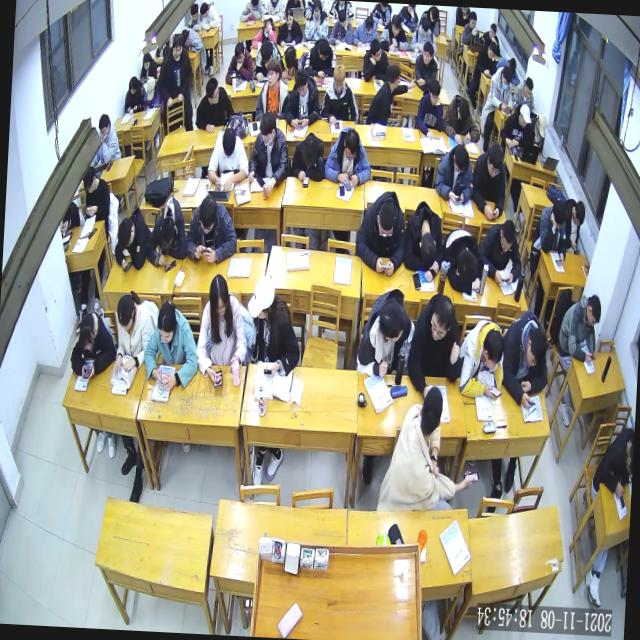bow: (500, 310, 551, 408), (456, 316, 506, 397), (185, 194, 239, 264), (402, 200, 444, 282), (69, 309, 117, 378), (146, 196, 188, 266), (440, 226, 483, 292), (114, 208, 152, 274), (442, 92, 482, 145), (288, 129, 326, 181), (380, 12, 410, 50), (251, 16, 278, 50), (279, 45, 304, 81), (353, 13, 379, 46), (180, 26, 206, 52)
down: (526, 327, 548, 369), (208, 272, 228, 316), (156, 300, 176, 344), (198, 194, 218, 234), (115, 294, 134, 332), (376, 201, 396, 237), (258, 112, 278, 145), (78, 314, 95, 350), (486, 142, 503, 178), (117, 216, 136, 246), (159, 212, 176, 245), (344, 125, 361, 158), (586, 294, 602, 328), (499, 220, 515, 252), (550, 200, 566, 230), (302, 132, 318, 161), (456, 95, 471, 124), (452, 144, 467, 172), (222, 128, 236, 158), (294, 68, 308, 97), (260, 38, 274, 66), (82, 164, 96, 192), (332, 62, 345, 92), (574, 198, 586, 228), (428, 77, 440, 106), (316, 38, 330, 62), (519, 104, 532, 129), (98, 114, 111, 139), (536, 113, 548, 139), (500, 65, 512, 89), (145, 76, 156, 102), (284, 46, 296, 69), (173, 31, 183, 57), (233, 42, 244, 64), (391, 12, 402, 34), (523, 75, 534, 97), (420, 15, 430, 36), (264, 17, 274, 37), (284, 8, 294, 28), (311, 0, 321, 20), (364, 14, 374, 34), (128, 74, 138, 94), (142, 51, 152, 71), (338, 9, 347, 28), (487, 41, 496, 60), (190, 4, 199, 22), (199, 2, 209, 18), (469, 10, 476, 28), (181, 28, 188, 44)
lookup: (266, 58, 282, 88)
sit: (378, 384, 482, 516), (244, 277, 304, 379), (196, 272, 250, 382), (406, 293, 462, 398), (356, 289, 416, 380), (143, 300, 200, 392), (356, 186, 408, 274), (155, 33, 197, 133), (248, 110, 290, 196), (114, 290, 154, 372), (556, 292, 601, 364), (367, 62, 417, 126), (322, 125, 372, 187), (480, 219, 524, 285), (471, 142, 508, 220), (207, 126, 250, 192), (434, 143, 475, 205), (320, 61, 360, 123), (283, 68, 322, 129), (195, 78, 236, 136), (254, 56, 290, 122), (535, 198, 569, 266), (414, 77, 445, 139), (81, 162, 112, 220), (499, 103, 532, 149), (93, 112, 123, 162), (303, 38, 337, 78), (252, 38, 282, 83), (225, 41, 255, 86), (488, 66, 516, 114), (361, 38, 390, 84), (562, 197, 586, 252), (414, 40, 438, 90), (276, 6, 304, 46), (410, 14, 438, 51), (303, 0, 329, 39), (327, 9, 353, 47), (512, 76, 536, 112), (124, 76, 146, 115), (475, 41, 498, 77), (528, 112, 546, 154), (480, 20, 502, 54), (199, 0, 222, 28), (463, 10, 481, 44), (140, 51, 158, 82)
